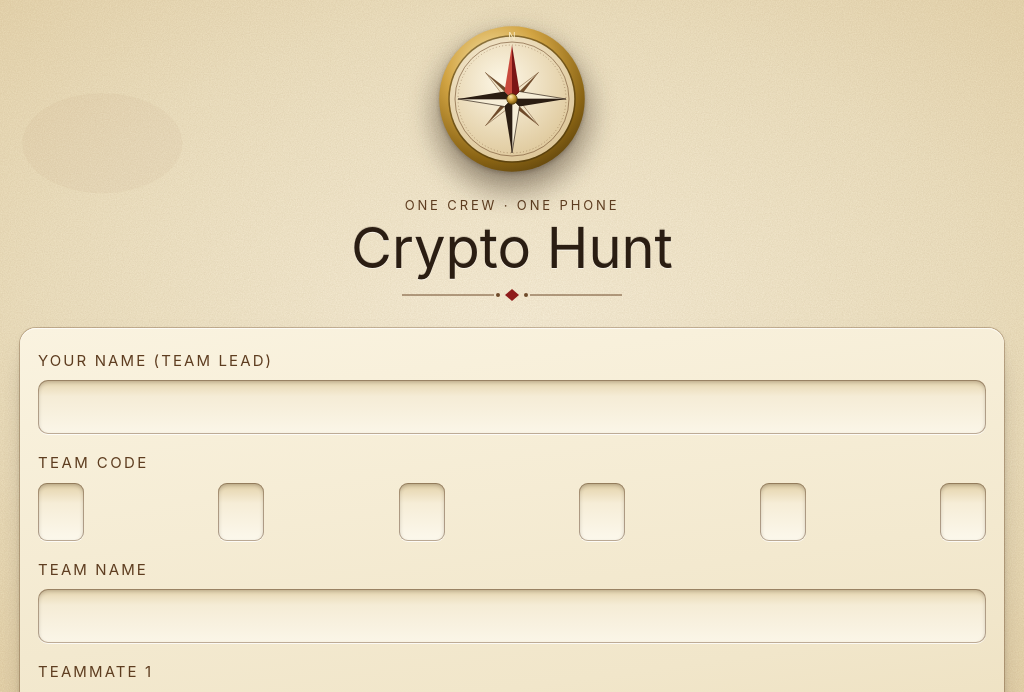
Test: Join (T-1201) › needs all 3 teammates before it joins
The image size is (1024, 692).
Type "  Ana " into the field labelled "YOUR NAME (TEAM LEAD)" at coordinates (512, 407), box [38,380,986,434]
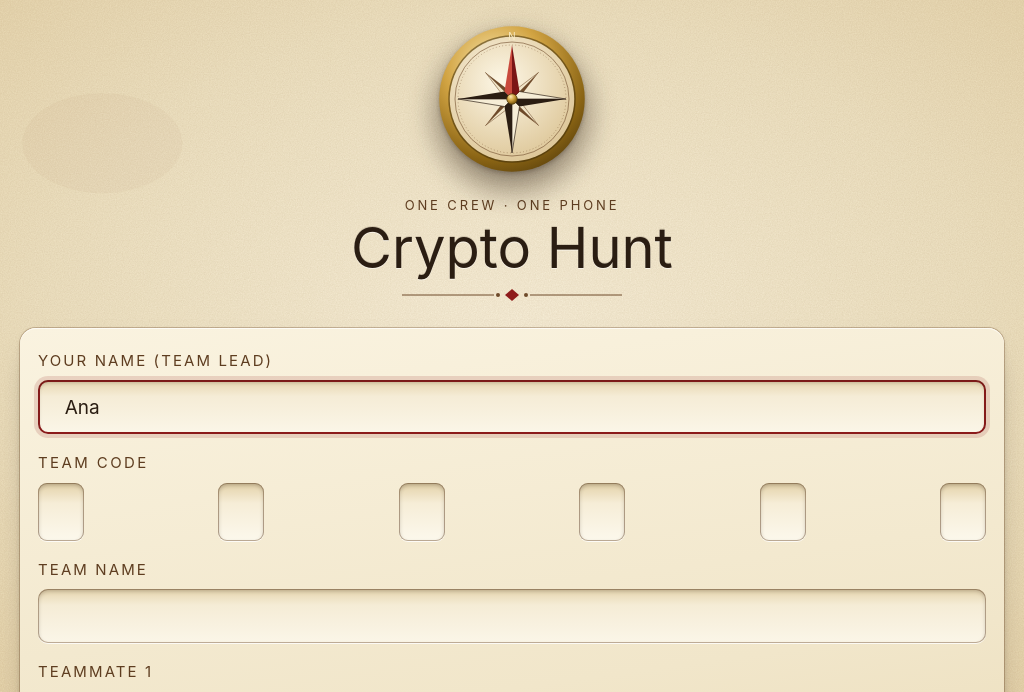
Click the field named "Team code character 1" at coordinates (61, 512), box [38,482,84,540]
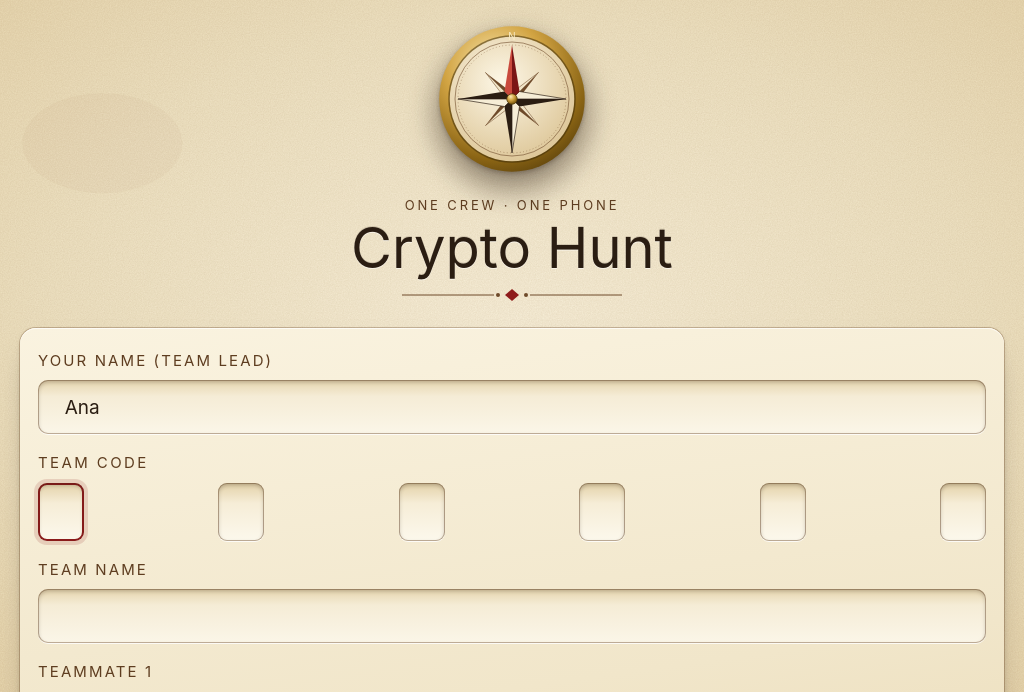
Type keys "HX7RMK"
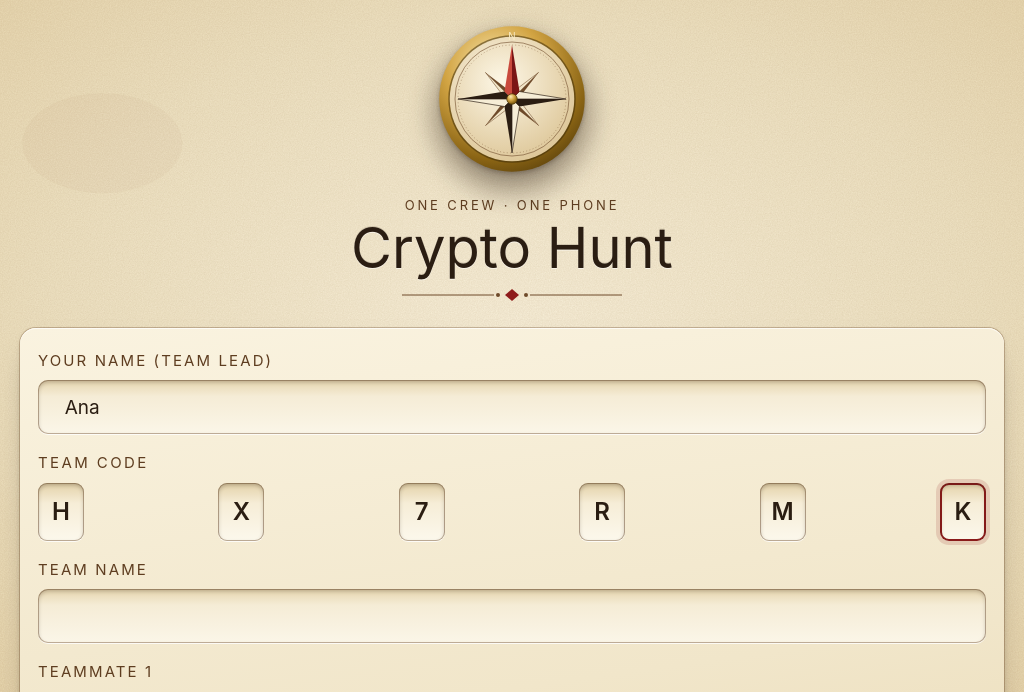
Type "Night Owls" into the field labelled "TEAM NAME" at coordinates (512, 616), box [38,589,986,643]
(page scrolled)
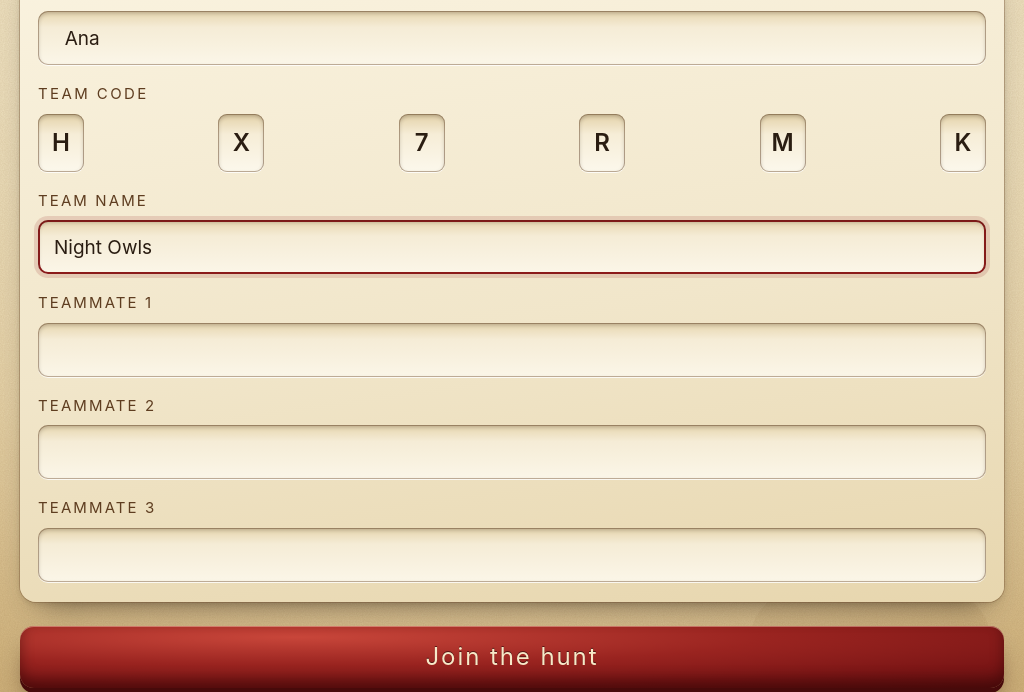
Click the button "Join the hunt" at coordinates (512, 656), box [20,626,1004,688]
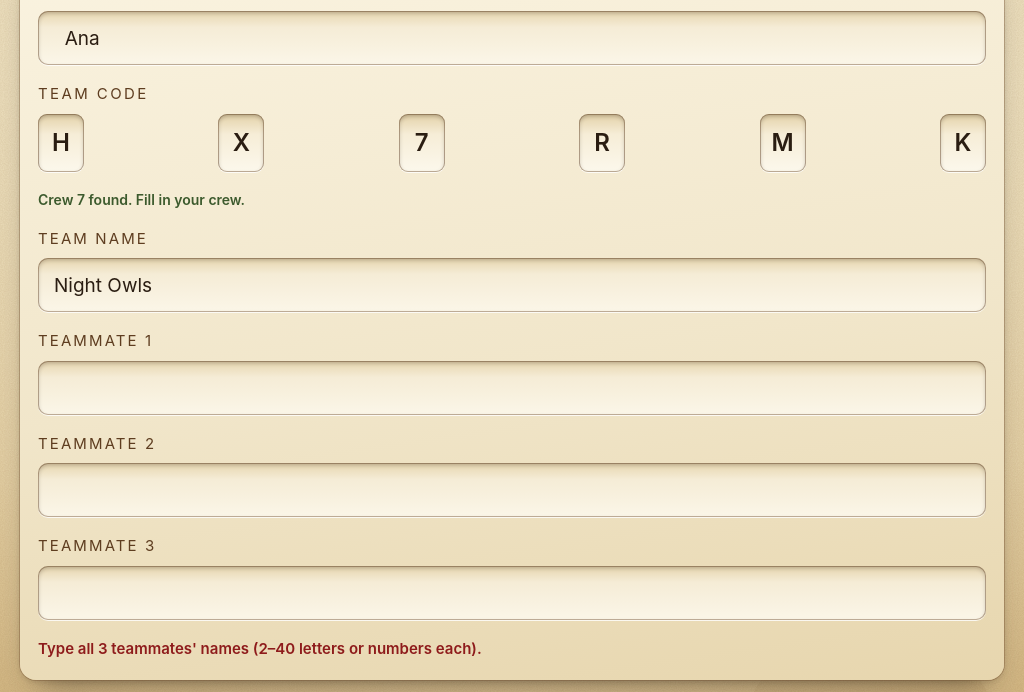
Now the message shows "3 teammates", box [38,638,482,658]
